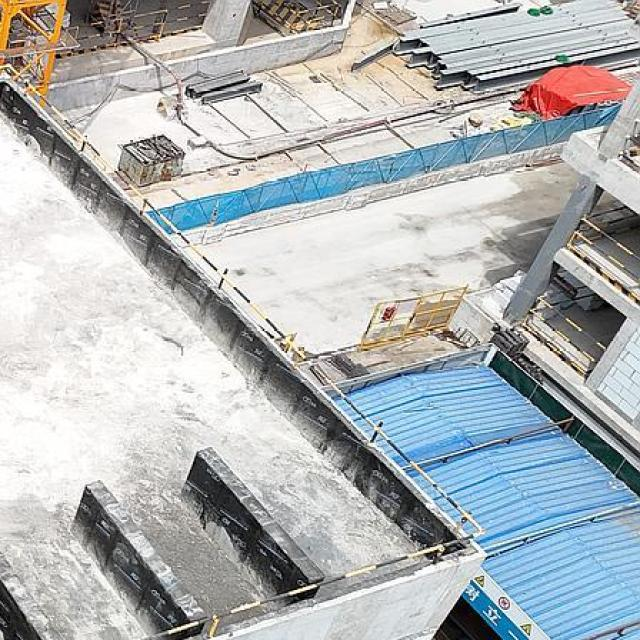edge_guardrail: (0, 63, 484, 640), (519, 285, 608, 378), (66, 0, 211, 53), (565, 205, 640, 303), (284, 0, 342, 34), (250, 0, 300, 36), (617, 134, 640, 169)
